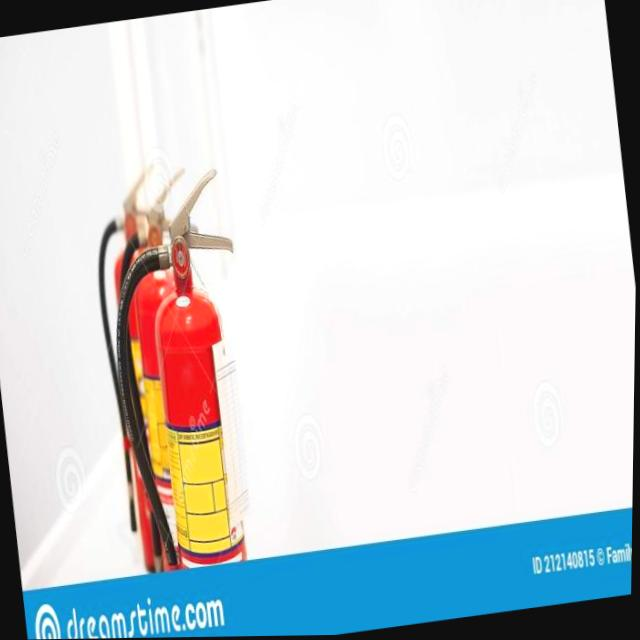FireExtinguisher: (91, 162, 279, 576), (91, 159, 244, 579)
